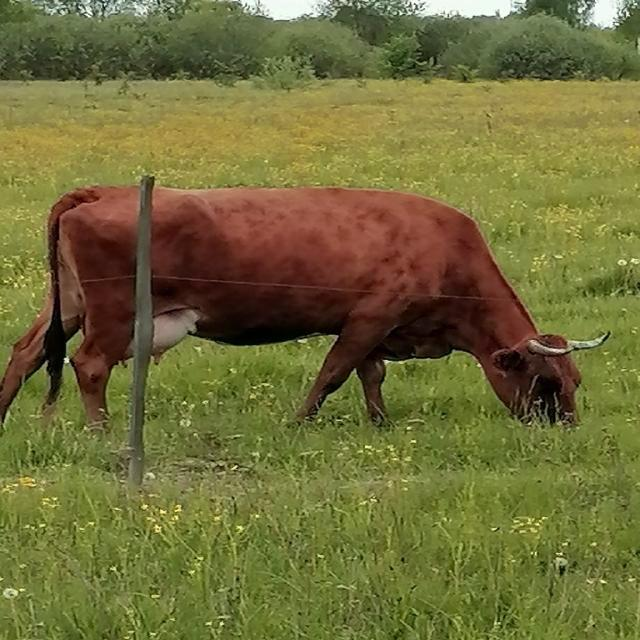cow: (151, 188, 580, 422), (0, 186, 138, 427)
